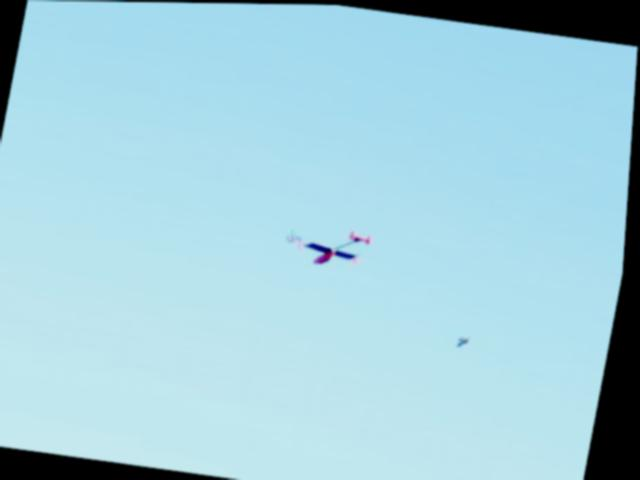uav: (289, 210, 385, 285)
